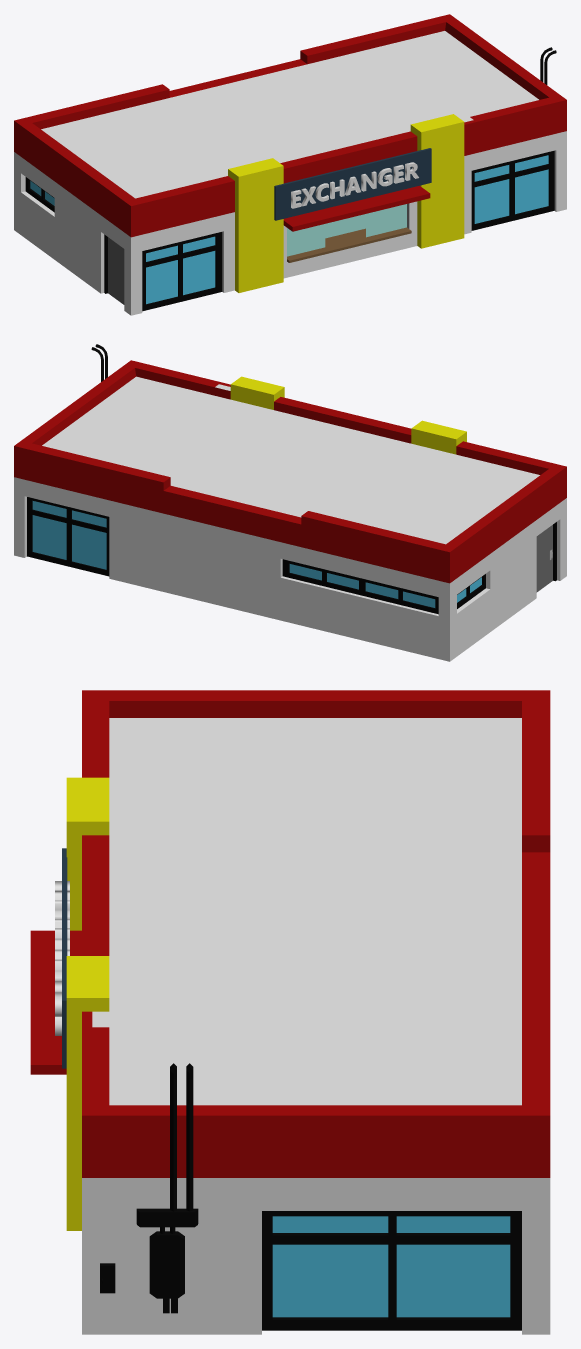
The model's file is Exchanger Bldg.fbx.
The picture shows the model from 3 angles, top to bottom: view 1: azimuth 30°, elevation 25°; view 2: azimuth 150°, elevation 25°; view 3: azimuth 270°, elevation 25°; orthographic projection. The views are drawn at different scales.
Visible parts, largest first — view 1: Roof, Roof Red, Exchanger Bldg, Yellow, Window 1, Sign.001, Exchanger Window, Sign Text, Table, Door; view 2: Roof, Exchanger Bldg, Roof Red, Window 1, Yellow, Door; view 3: Roof, Roof Red, Exchanger Bldg, Window 1, Yellow, Pipe?, Sign Text, Sign.001.
Part boxes in pixels (x1=…): Roof: x1=41, y1=31, x2=538, y2=198; Roof Red: x1=14, y1=14, x2=566, y2=237; Exchanger Bldg: x1=14, y1=117, x2=566, y2=315; Yellow: x1=228, y1=114, x2=464, y2=292; Window 1: x1=25, y1=150, x2=554, y2=311; Sign.001: x1=274, y1=148, x2=431, y2=220; Exchanger Window: x1=287, y1=204, x2=406, y2=256; Sign Text: x1=291, y1=162, x2=418, y2=208; Table: x1=287, y1=227, x2=411, y2=262; Door: x1=104, y1=234, x2=124, y2=304; Roof: x1=42, y1=376, x2=539, y2=544; Exchanger Bldg: x1=14, y1=384, x2=566, y2=661; Roof Red: x1=14, y1=360, x2=566, y2=583; Window 1: x1=27, y1=497, x2=485, y2=614; Yellow: x1=230, y1=376, x2=466, y2=454; Door: x1=536, y1=522, x2=556, y2=592; Roof: x1=109, y1=718, x2=521, y2=1105; Roof Red: x1=30, y1=690, x2=550, y2=1177; Exchanger Bldg: x1=82, y1=1011, x2=550, y2=1334; Window 1: x1=262, y1=1211, x2=521, y2=1330; Yellow: x1=66, y1=777, x2=109, y2=1230; Pipe?: x1=100, y1=1063, x2=198, y2=1313; Sign Text: x1=55, y1=881, x2=69, y2=1035; Sign.001: x1=62, y1=848, x2=67, y2=1068.
Size of the model in its own units: 1821 by 542 by 915.
